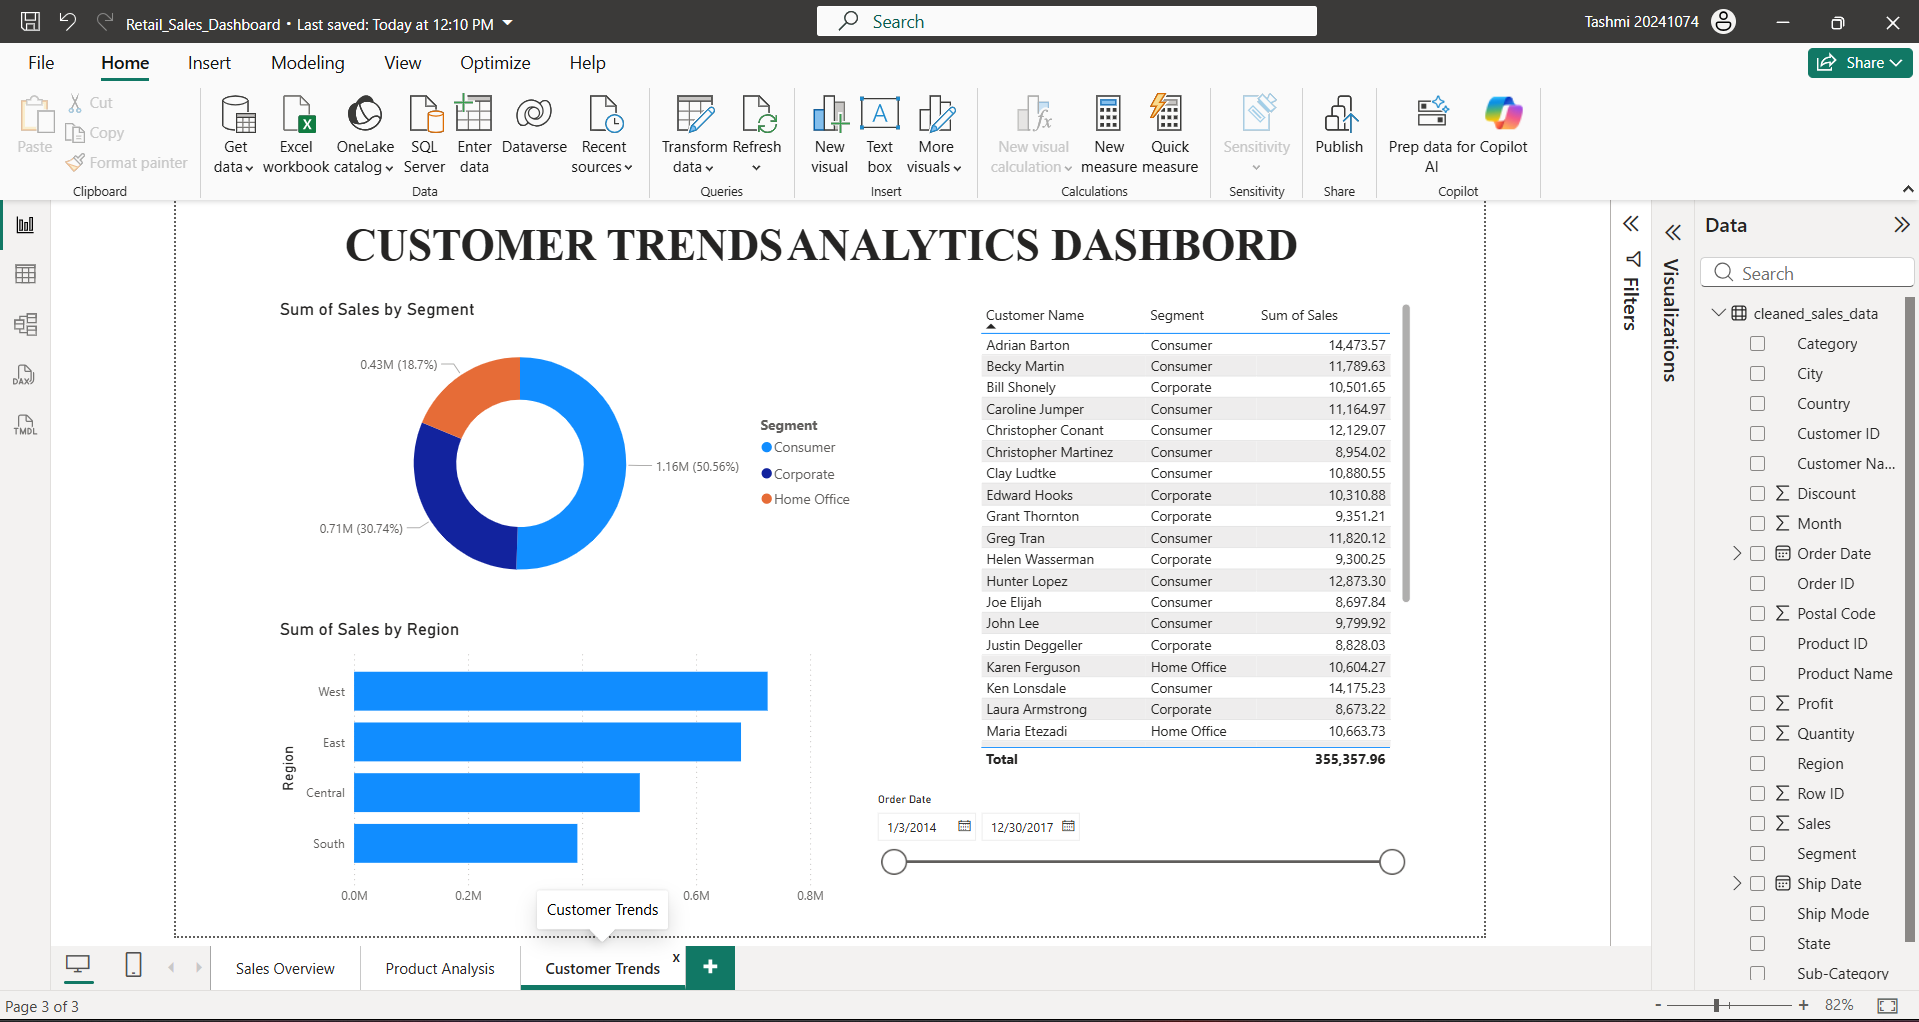

This screenshot's page, from the dashboard's own definition file:
{"tool":"powerbi","page":{"name":"Customer Trends","canvas":[1280,720],"ordinal":2},"visuals":[{"type":"textbox","box":[160.2,14.7,1027.2,61.1],"z":0},{"type":"donutChart","fields":{"Category":["cleaned_sales_data.Segment"],"Y":["Sum(cleaned_sales_data.Sales)"]},"box":[96.6,96.6,577.2,303.3],"z":1},{"type":"clusteredBarChart","fields":{"Category":["cleaned_sales_data.Region"],"Y":["Sum(cleaned_sales_data.Sales)"]},"box":[96.6,409.6,542.9,303.3],"z":2},{"type":"tableEx","fields":{"Values":["cleaned_sales_data.Customer Name","cleaned_sales_data.Segment","Sum(cleaned_sales_data.Sales)"]},"box":[781.4,96.6,431.7,464.7],"z":3},{"type":"slicer","fields":{"Values":["cleaned_sales_data.Order Date"]},"box":[673.8,574.7,536.8,113.7],"z":4}]}

Visuals, with their boxes on the page's 1280x720 design canvas (x1, y1, x2, y2). These are canvas units, not pixel positions in the 1919x1022 screenshot, which may show the page scaled, cropped or inside an application window:
textbox: {"left": 160, "top": 15, "right": 1187, "bottom": 76}
donutChart - cleaned_sales_data.Segment x Sum(cleaned_sales_data.Sales): {"left": 97, "top": 97, "right": 674, "bottom": 400}
clusteredBarChart - cleaned_sales_data.Region x Sum(cleaned_sales_data.Sales): {"left": 97, "top": 410, "right": 640, "bottom": 713}
tableEx - cleaned_sales_data.Customer Name x cleaned_sales_data.Segment: {"left": 781, "top": 97, "right": 1213, "bottom": 561}
slicer - cleaned_sales_data.Order Date: {"left": 674, "top": 575, "right": 1211, "bottom": 688}
